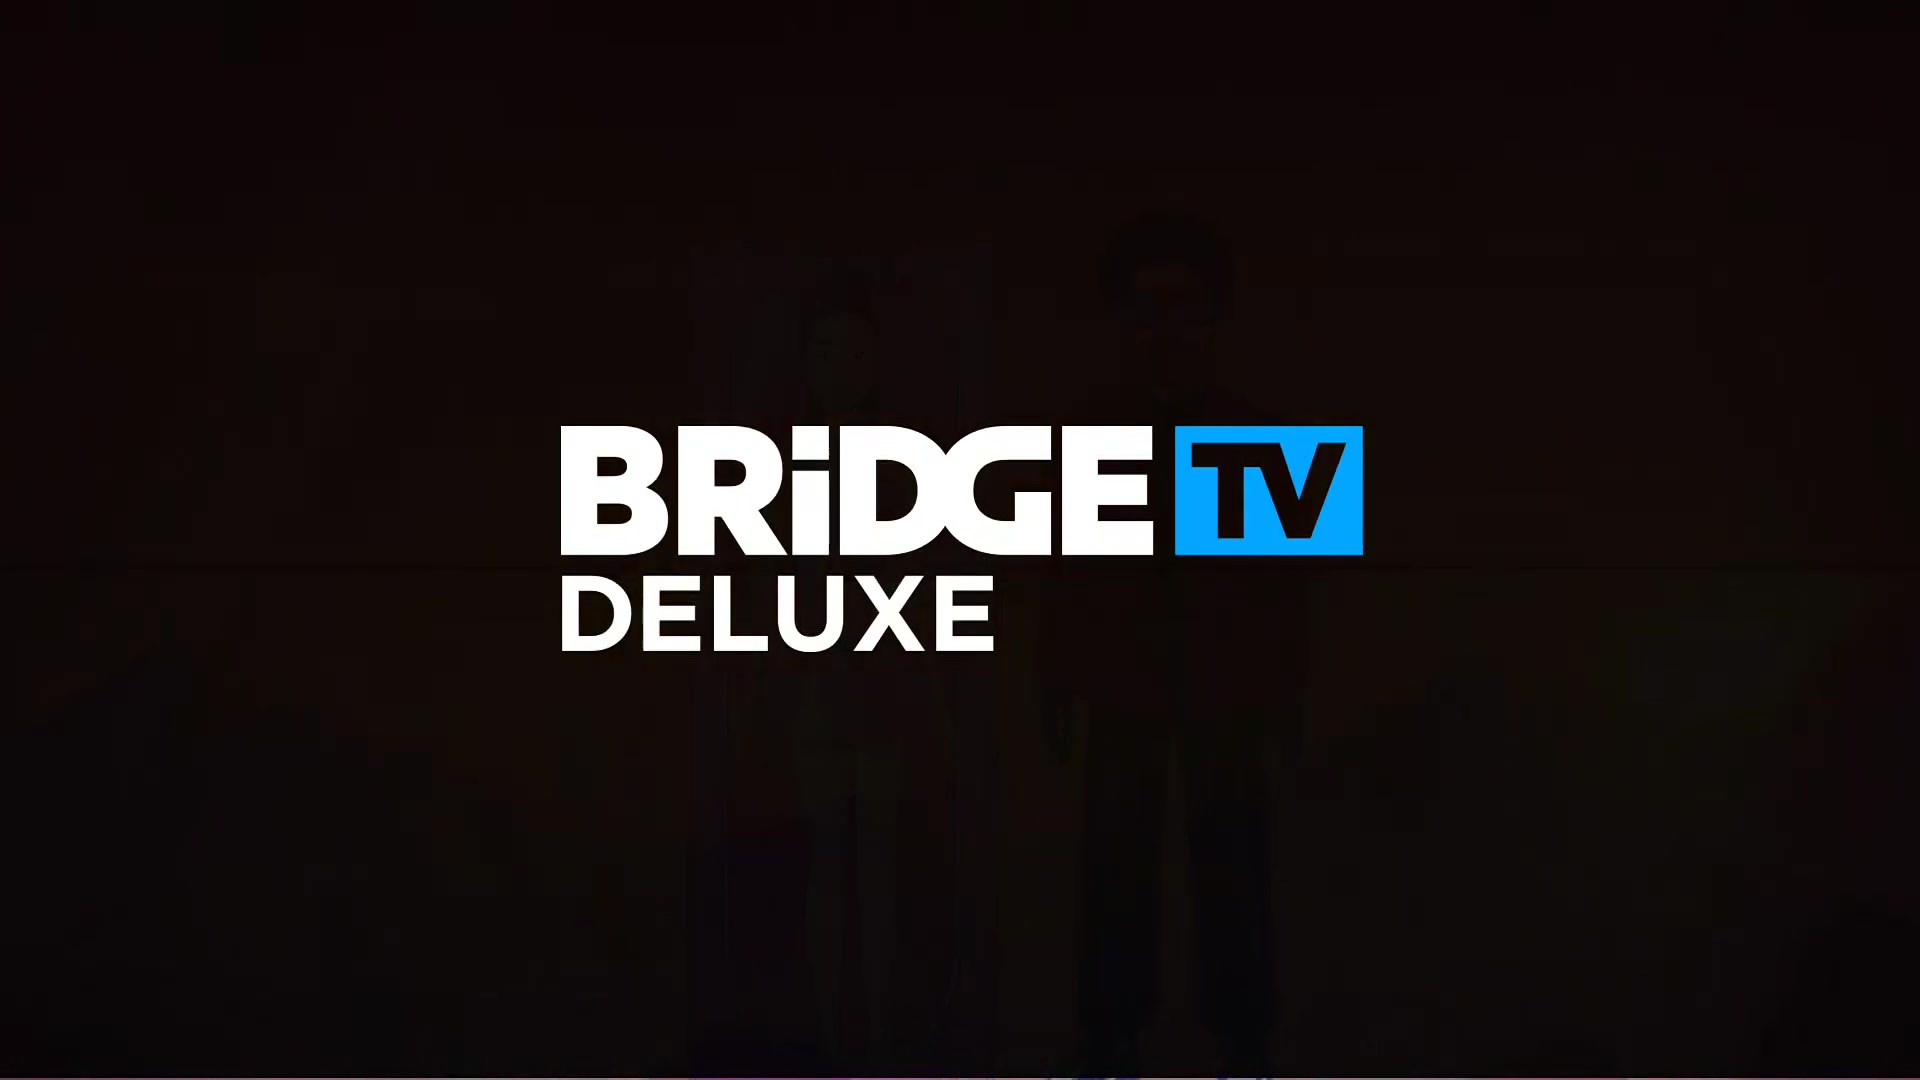Bridge_TV_Deluxe: (551, 418, 1369, 665)
